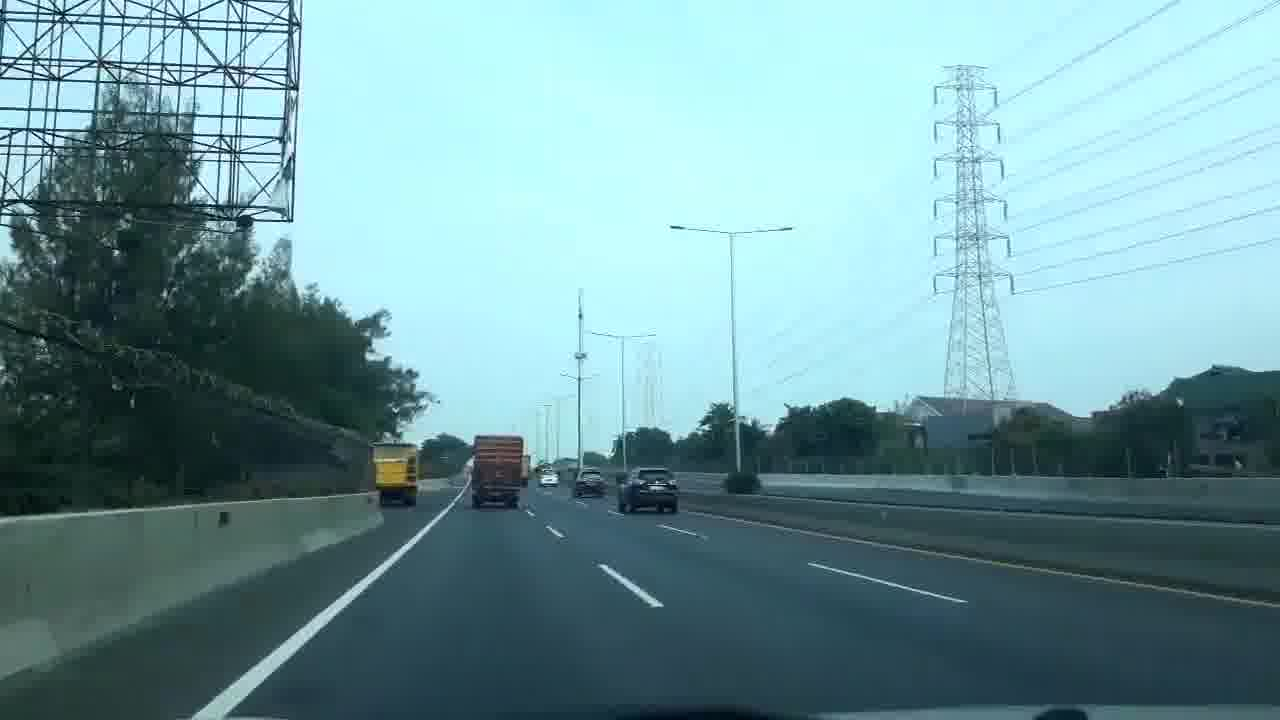plate_positive: (649, 485, 665, 490)
